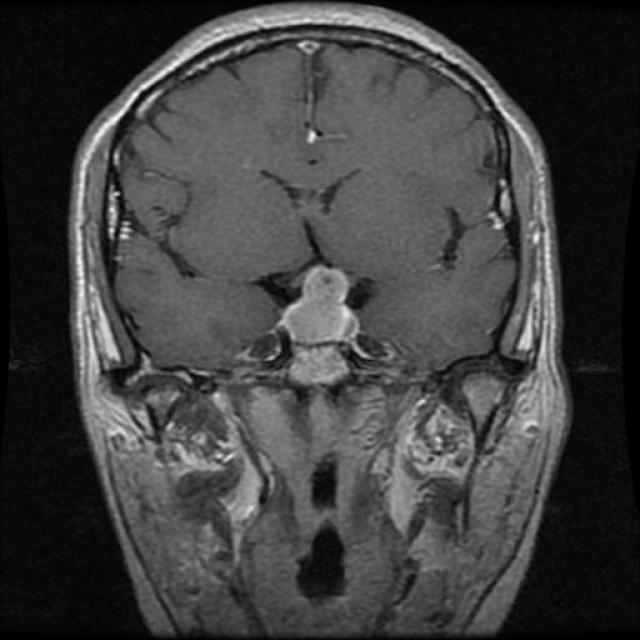pituitary: (269, 263, 382, 391)
